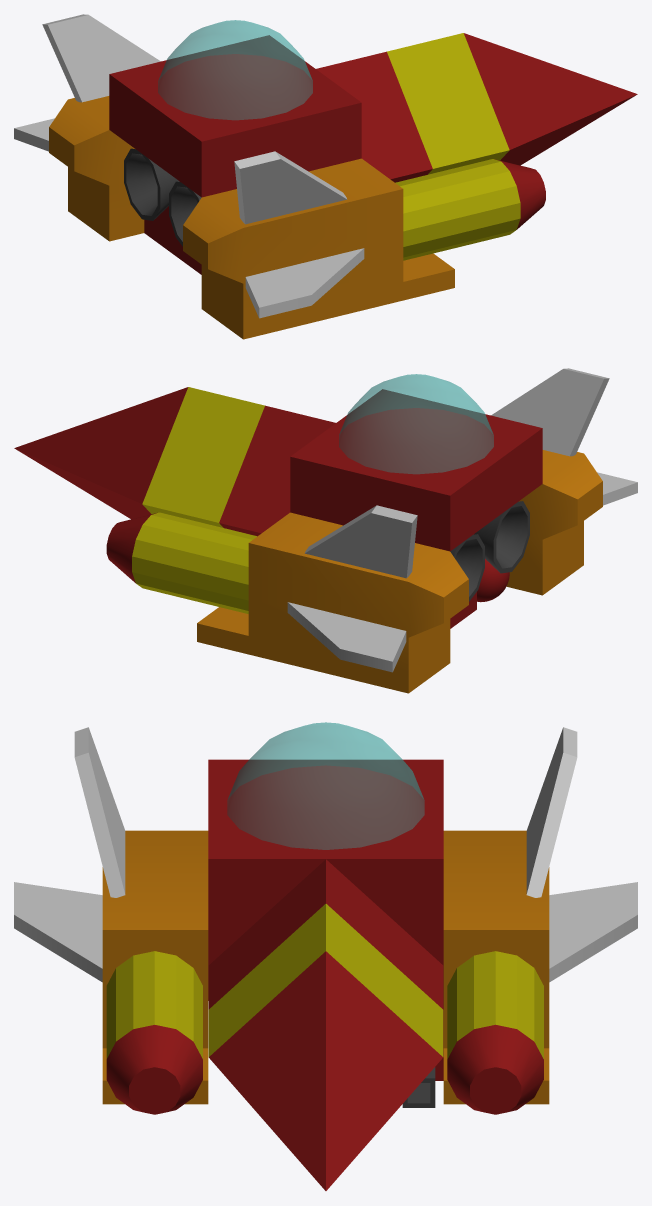
File: gummi ship 4.fbx
The picture shows the model from 3 angles, top to bottom: view 1: azimuth 30°, elevation 25°; view 2: azimuth 150°, elevation 25°; view 3: azimuth 270°, elevation 25°; orthographic projection. The views are drawn at different scales.
Parts seen in each view (by area): view 1: body, Cube_1, glass, Cylinder_1, Cube_2, Cube_4, Cube_7, Cone_Cone_1_2, Cone_Cone_1, Cube_6; view 2: body, Cube_1, glass, Cylinder, Cube_4, Cube_2, Cube_6, Cone_Cone_1, Cone_Cone_1_2, Oil_Tank, Cube_7; view 3: body, Cube_1, glass, Cylinder, Cylinder_1, Cube_7, Cube_6, Cube_4, Cube_2, Boole_3.
Boxes of the visible parts, x1,y1,x2,y2 form: body: [49, 35, 454, 339]; Cube_1: [316, 33, 637, 182]; glass: [158, 20, 312, 119]; Cylinder_1: [395, 159, 545, 260]; Cube_2: [42, 14, 160, 102]; Cube_4: [234, 151, 347, 224]; Cube_7: [245, 248, 364, 318]; Cone_Cone_1_2: [124, 148, 179, 220]; Cone_Cone_1: [169, 181, 201, 246]; Cube_6: [14, 118, 54, 151]; body: [197, 389, 602, 693]; Cube_1: [14, 387, 335, 536]; glass: [339, 374, 493, 473]; Cylinder: [106, 512, 256, 613]; Cube_4: [491, 368, 609, 456]; Cube_2: [304, 505, 417, 578]; Cube_6: [287, 602, 406, 672]; Cone_Cone_1: [474, 501, 529, 573]; Cone_Cone_1_2: [450, 534, 484, 601]; Oil_Tank: [477, 559, 509, 602]; Cube_7: [597, 472, 637, 505]; body: [102, 759, 549, 1104]; Cube_1: [208, 859, 443, 1190]; glass: [227, 722, 424, 849]; Cylinder: [447, 951, 543, 1114]; Cylinder_1: [106, 951, 202, 1114]; Cube_7: [14, 882, 102, 982]; Cube_6: [549, 882, 637, 982]; Cube_4: [74, 727, 125, 897]; Cube_2: [526, 727, 577, 897]; Boole_3: [402, 1067, 435, 1107].
Bounding box in the file's own units: 637 × 281 × 531.
